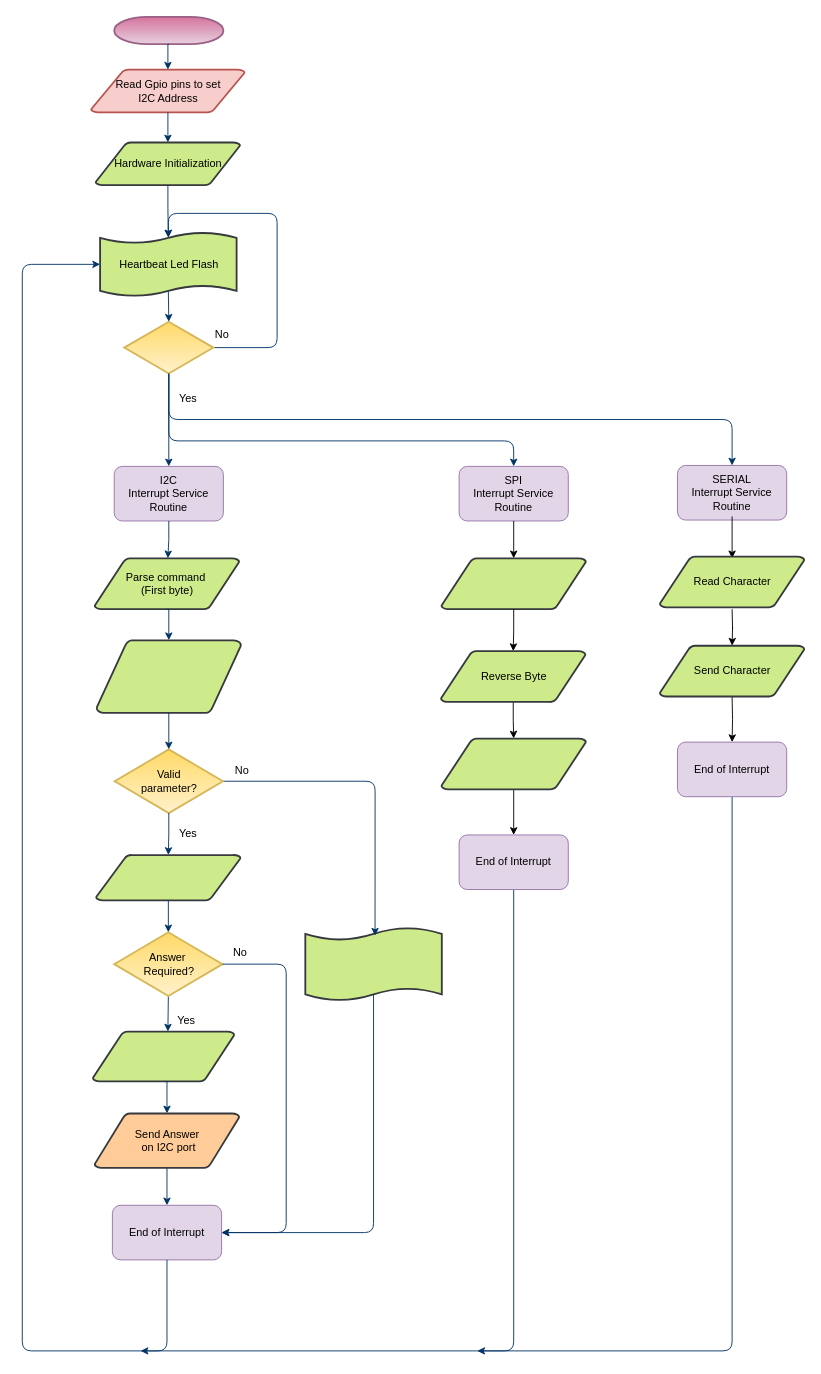
This 821x1374 diagram has some shape labels left out. Each missing label, with the centre of its shape:
Collect Answer (Single Byte): the point at 163,1056
Execute Command: the point at 168,877
Extract parameter from command (Second Byte): the point at 168,676
Interrupt?: the point at 168,347
Read Byte: the point at 513,583
Send Byte: the point at 513,763
Set Error Register: the point at 373,963
start: the point at 168,30
